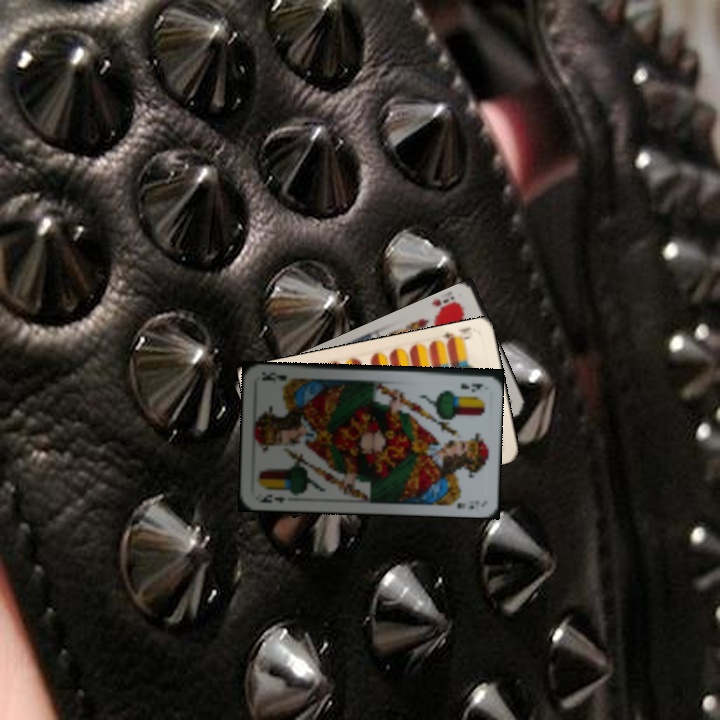E10: (439, 327, 474, 348)
EK: (254, 490, 288, 506), (457, 379, 486, 392)
HK: (430, 292, 463, 319)
